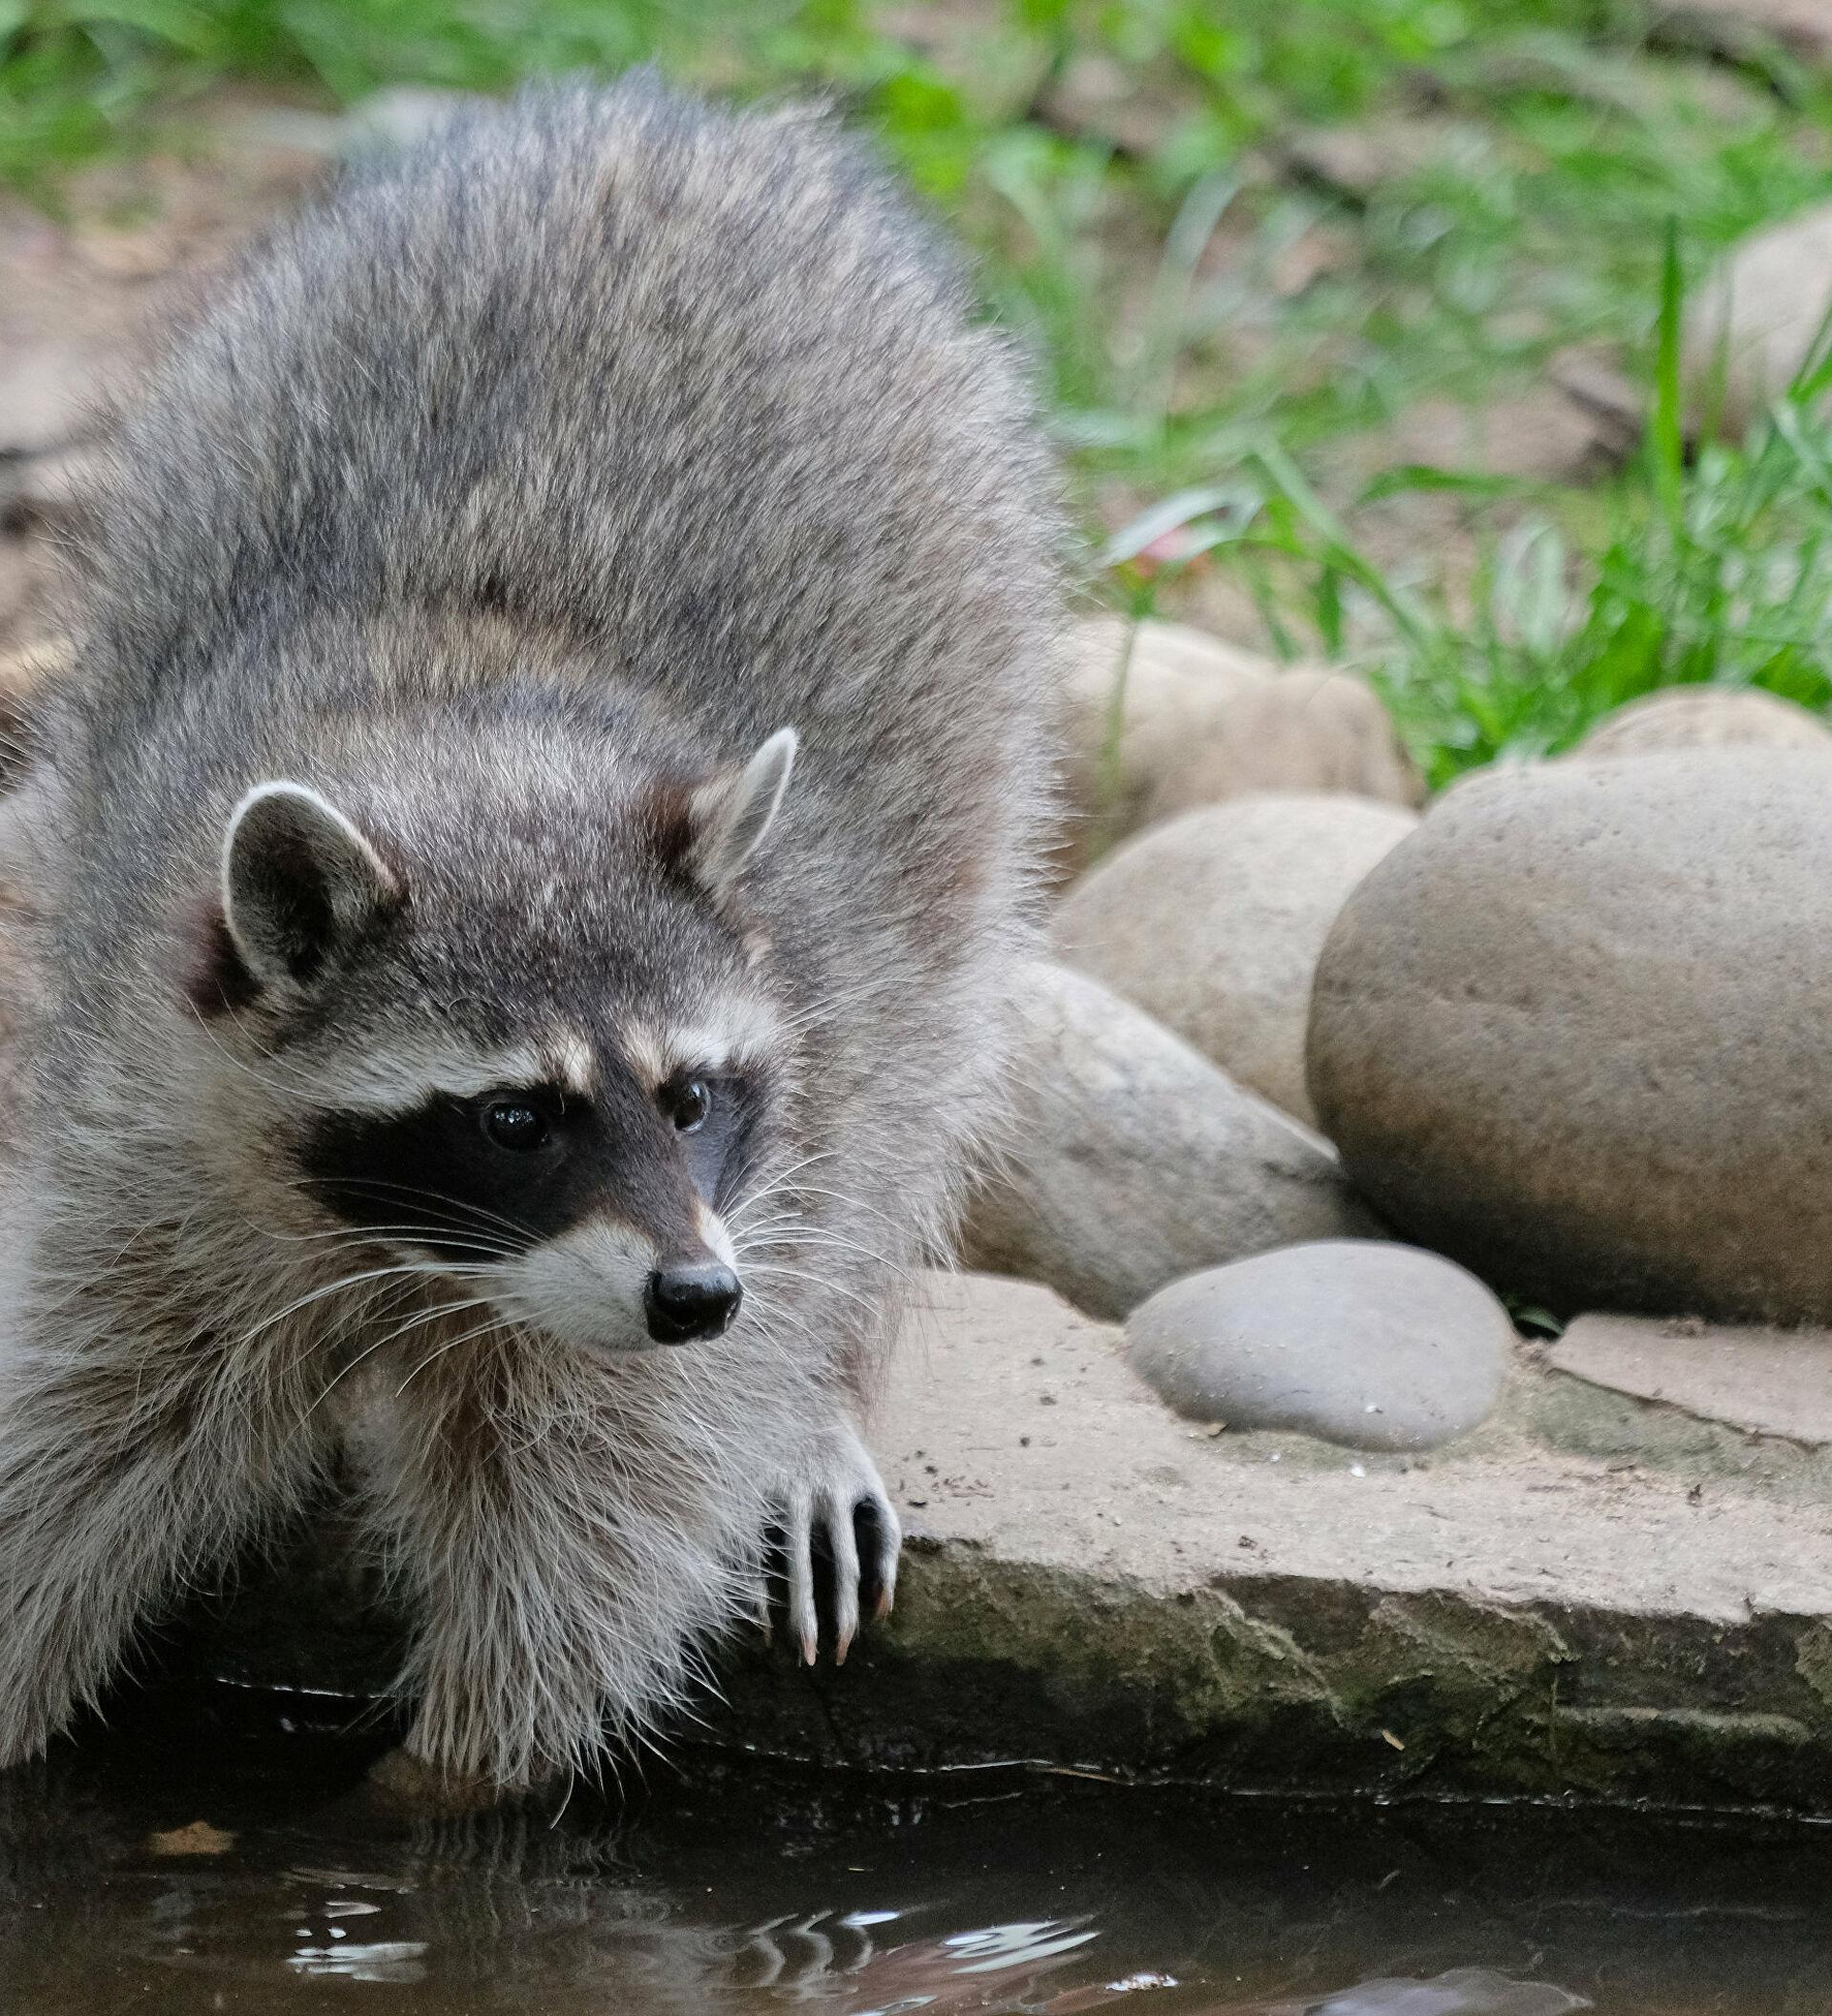raccoon: (0, 102, 1093, 1832)
